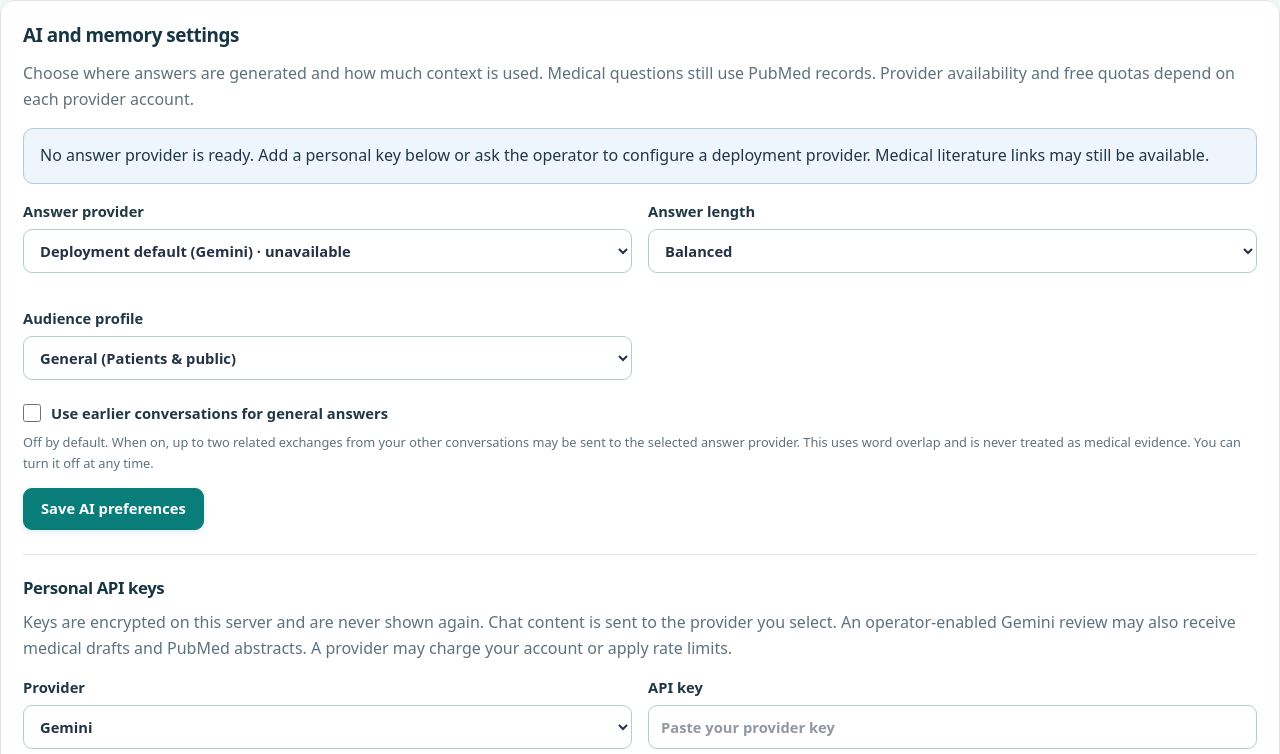
account UI › saves a personal provider key and opts into owner history without echoing the key
The width and height of the screenshot is (1280, 754).
Check: the dropdown labelled "Answer provider" is shown, box [23,229,632,273]
Step 1. Select "Groq" in the dropdown labelled "Provider" → (328, 727), box [23,705,632,749]
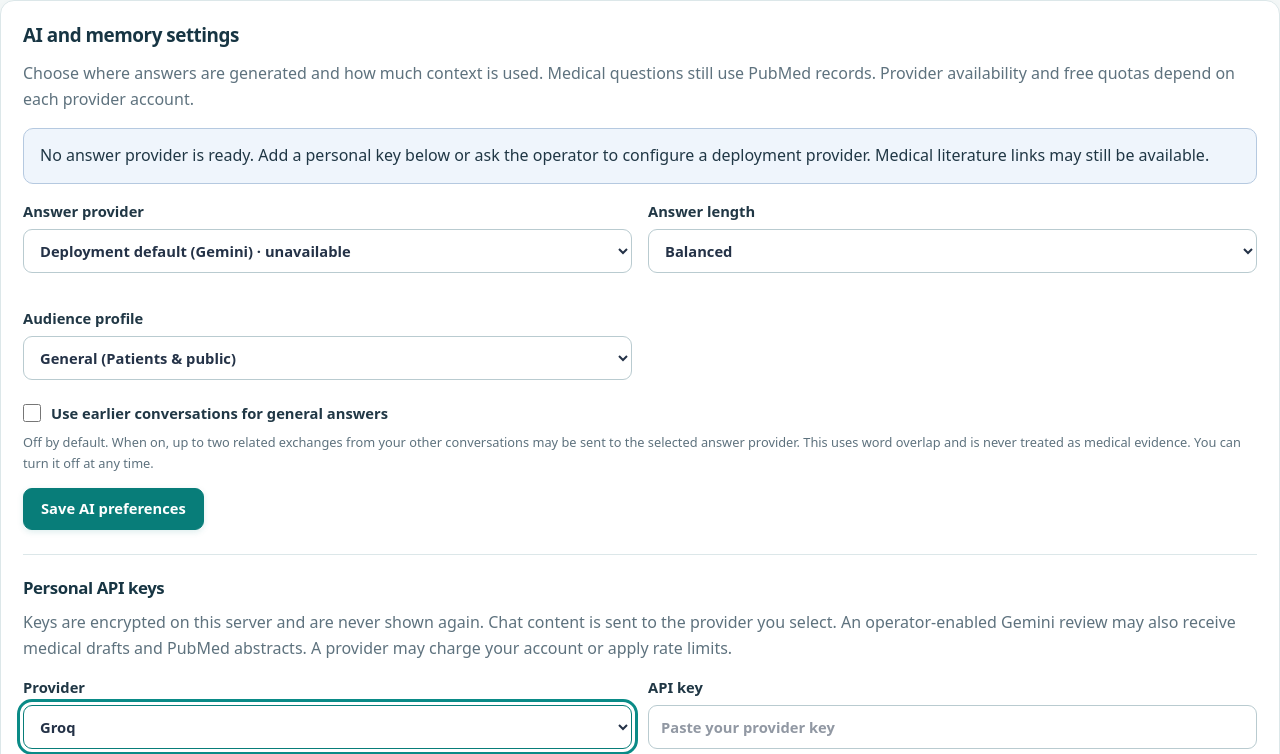
Step 2. Type "gsk_synthetic_private_key_1234" into the password field labelled "API key" → (952, 727), box [648,705,1257,749]
(page scrolled)
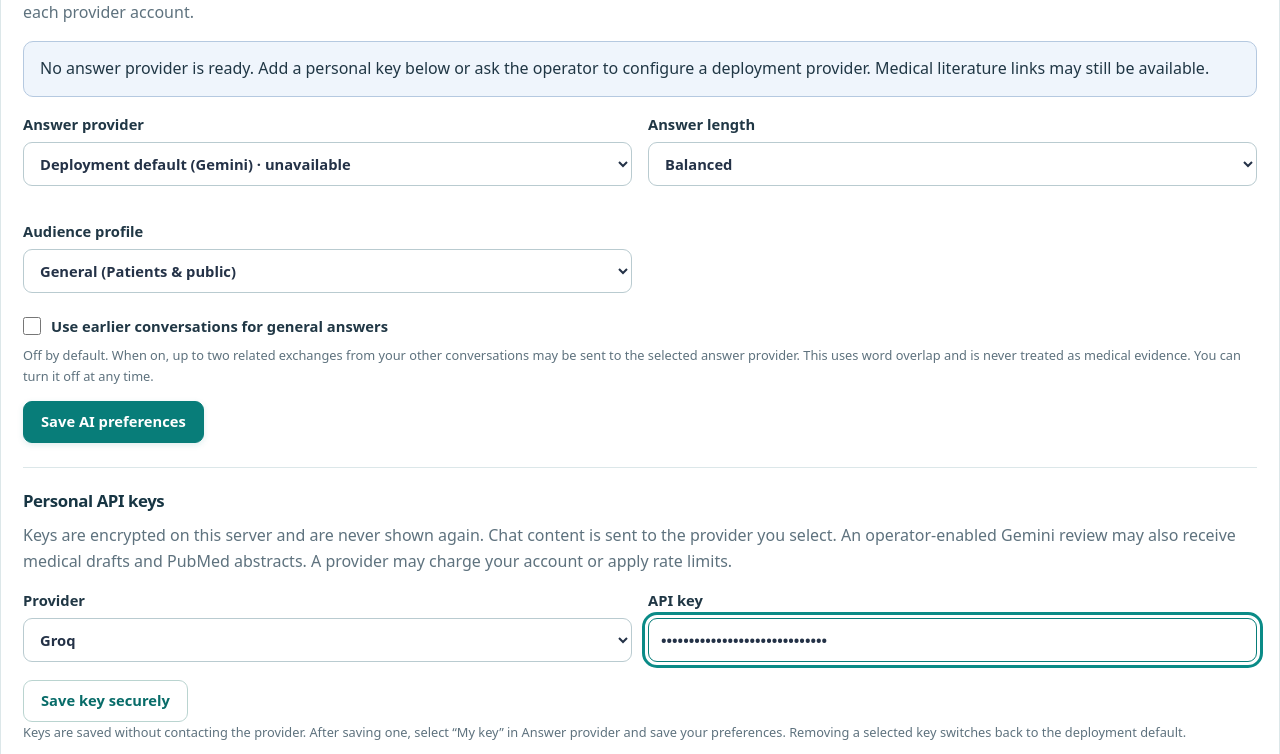
Step 3. Click the button "Save key securely" → (105, 701), box [23,680,188,722]
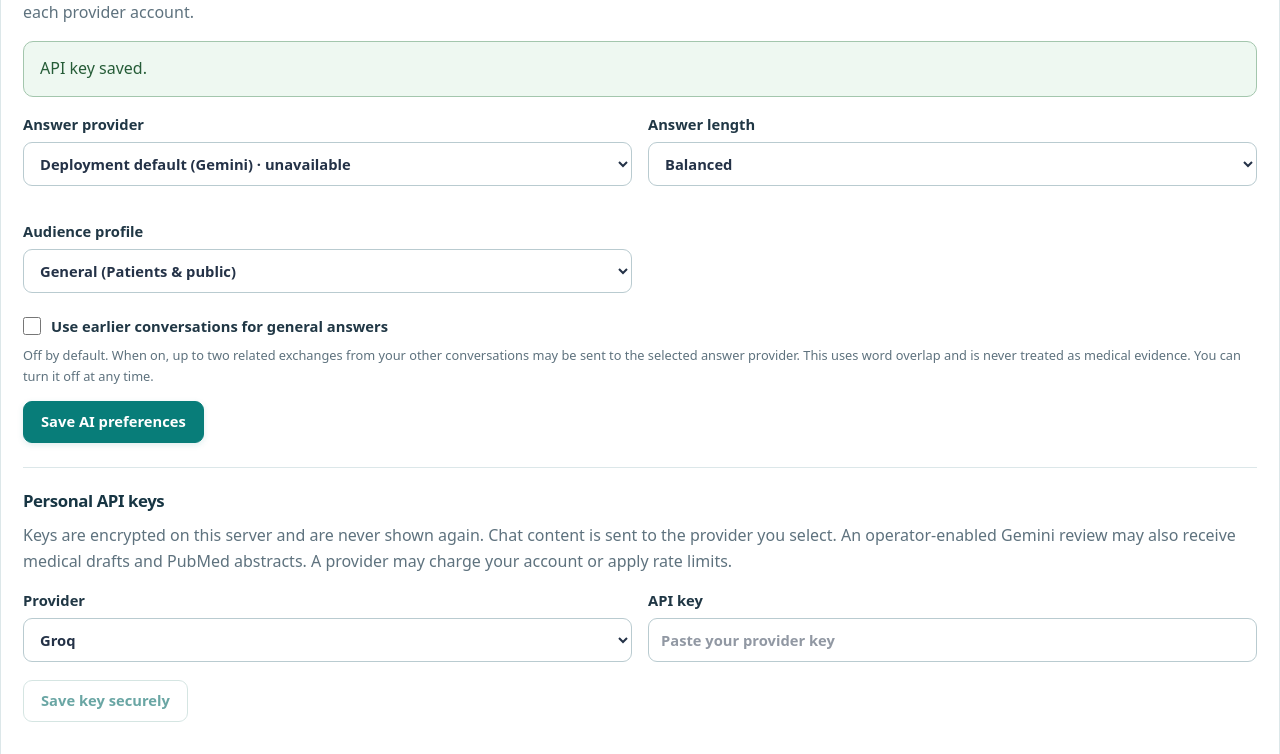
Check: the text "API key saved." is shown, box [23,41,1257,97]
Check: the password field labelled "API key" is empty, box [648,618,1257,662]
Step 4. Select "My key · Groq" in the dropdown labelled "Answer provider" → (328, 164), box [23,142,632,186]
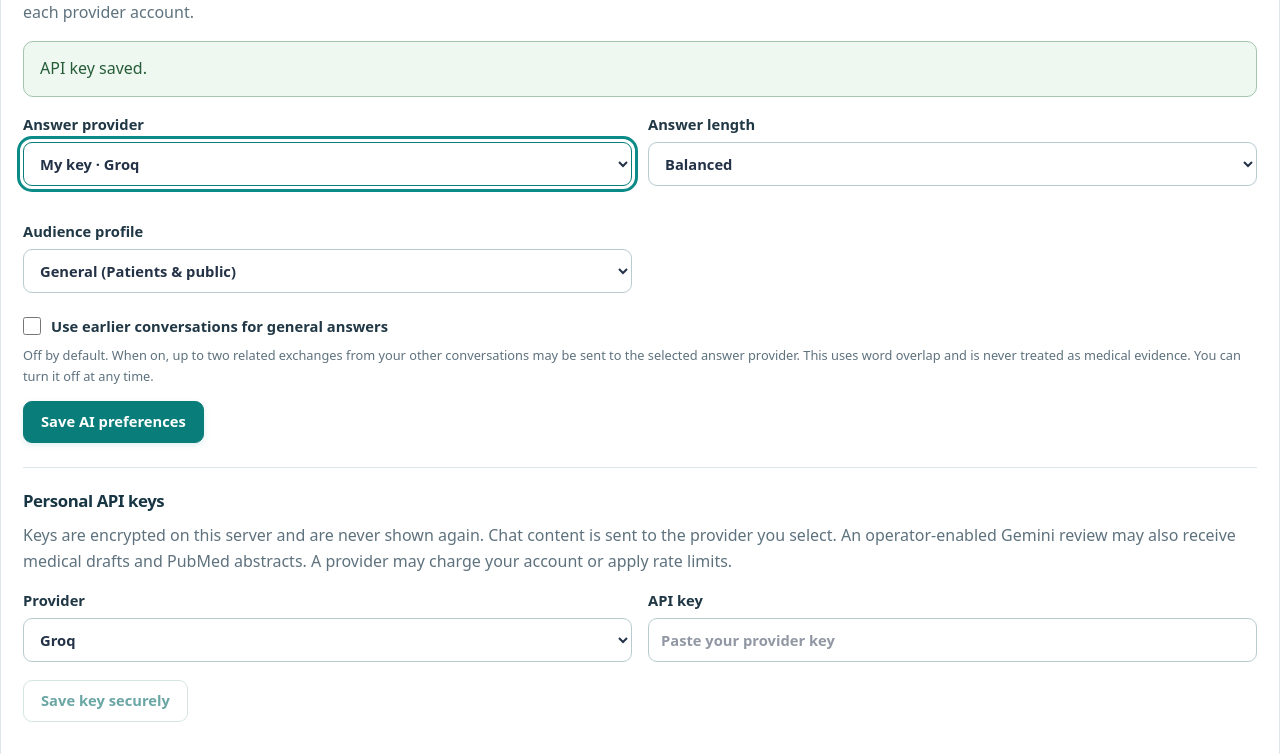
Step 5. Click the checkbox labelled "Use earlier conversations for general answers" → (32, 326), box [23,317,41,335]
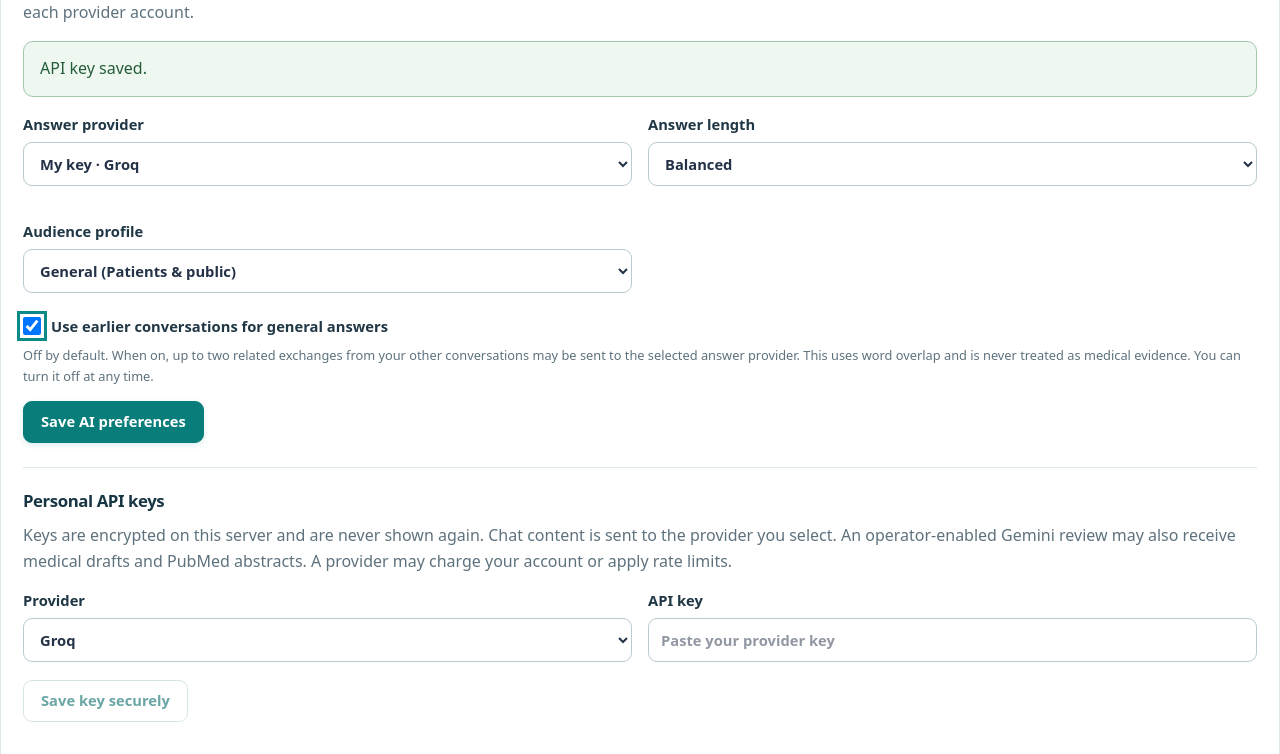
Step 6. Click the button "Save AI preferences" → (113, 422), box [23,401,204,443]
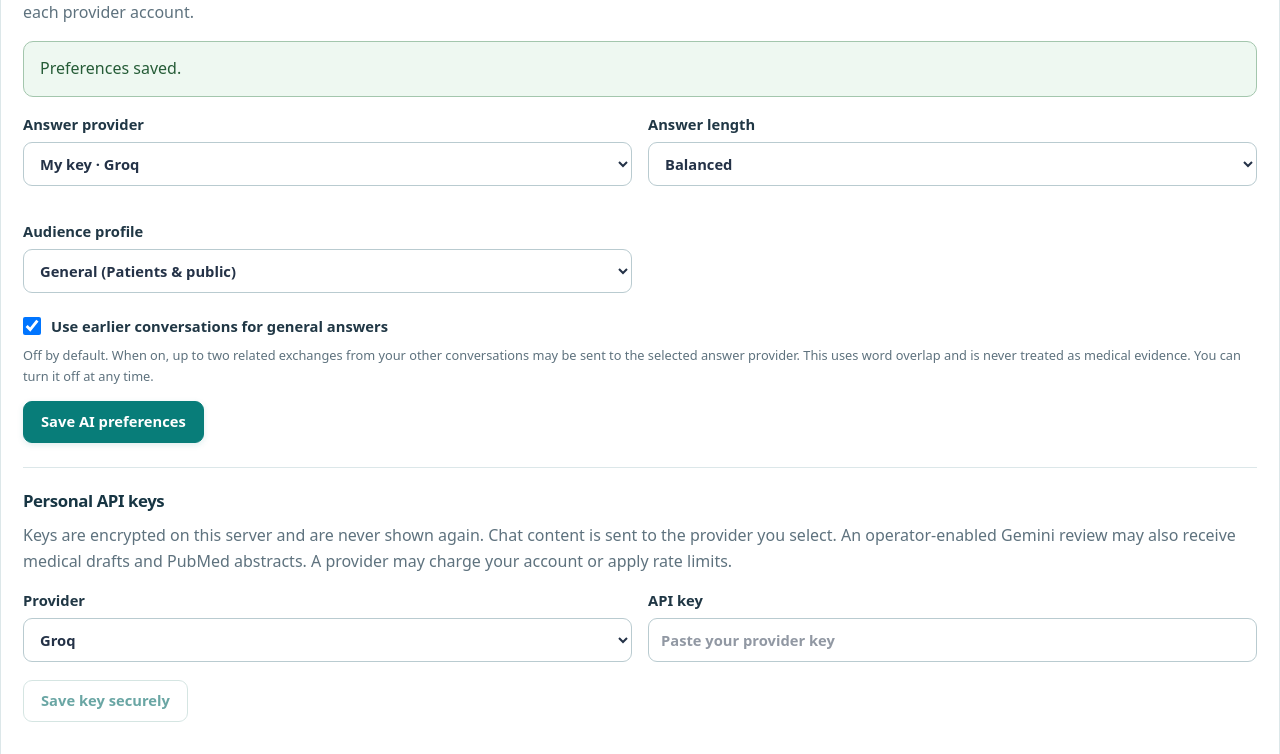
Check: the text "Preferences saved." is shown, box [23,41,1257,97]
